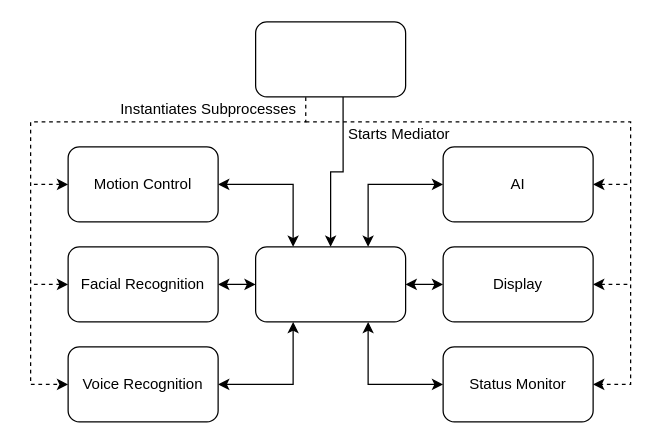
The diagram is 664 pixels wide and 444 high, and some of its shapes have lost their labels. Each missing label, with the box of its shape:
Mediator: (254, 246, 406, 322)
Robot Start: (254, 21, 406, 97)
